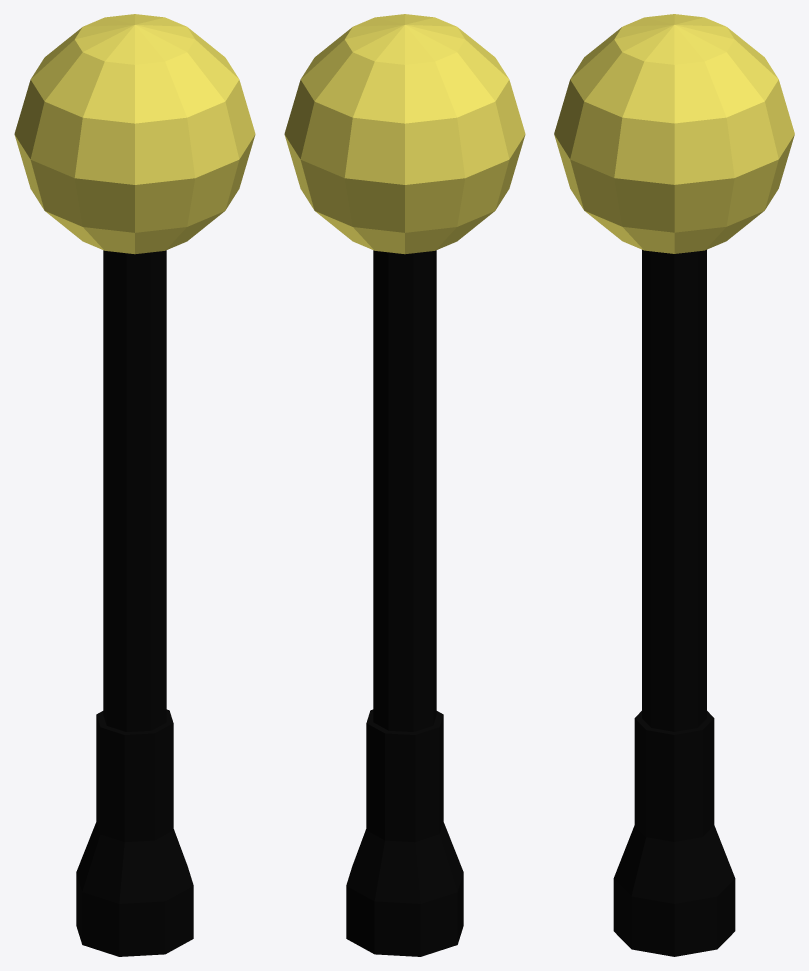
File: GardenLamp2.obj
3 renders of one model, left to right at view 1: azimuth 30°, elevation 25°; view 2: azimuth 150°, elevation 25°; view 3: azimuth 270°, elevation 25°, orthographic.
Parts seen in each view (by area): view 1: GardenLamp2_Cylinder.011; view 2: GardenLamp2_Cylinder.011; view 3: GardenLamp2_Cylinder.011.
Part boxes in pixels (x1,y1,x2,y2): GardenLamp2_Cylinder.011: (14, 14, 255, 956); GardenLamp2_Cylinder.011: (284, 14, 525, 956); GardenLamp2_Cylinder.011: (554, 14, 794, 956).
Bounding box in the file's own units: 1.05 × 4.36 × 1.05.
